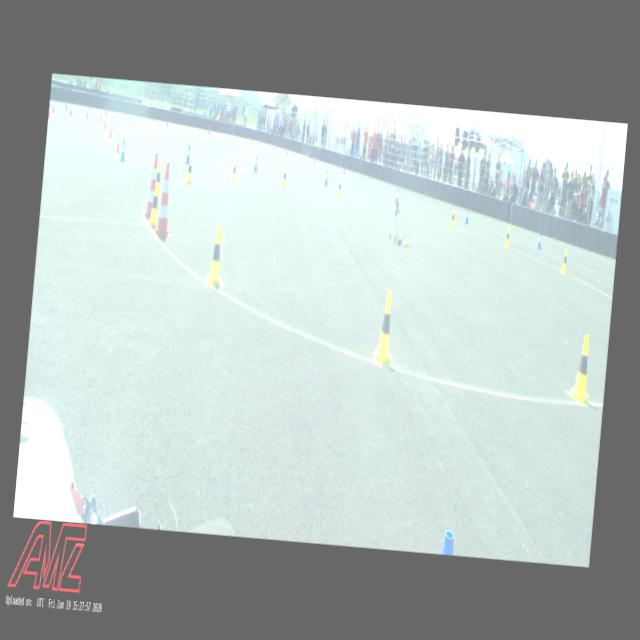blue_cone: (440, 529, 454, 555), (119, 137, 127, 161), (536, 230, 542, 250), (185, 144, 191, 164), (464, 206, 469, 224), (253, 155, 258, 172), (324, 170, 328, 186), (396, 188, 398, 200)
large_orange_cone: (155, 161, 174, 236), (144, 152, 158, 216)
orange_cone: (115, 131, 122, 152), (108, 120, 113, 138), (51, 99, 56, 112), (68, 102, 72, 116), (104, 114, 108, 128), (85, 107, 89, 119), (48, 104, 51, 118), (100, 110, 102, 122)
unknown_cone: (368, 168, 371, 180), (343, 164, 345, 175), (286, 146, 288, 156), (65, 101, 67, 110), (104, 105, 106, 114), (166, 119, 168, 128), (130, 114, 132, 122), (154, 114, 156, 122), (250, 138, 252, 146), (260, 137, 262, 145), (314, 156, 316, 164), (339, 160, 341, 168), (106, 108, 108, 114), (308, 152, 310, 158), (209, 128, 210, 135), (208, 126, 208, 133)
yellow_cone: (373, 290, 396, 364), (570, 333, 594, 402), (207, 224, 226, 286), (148, 182, 160, 228), (154, 161, 162, 197), (560, 248, 568, 273), (186, 156, 193, 184), (231, 158, 238, 182), (504, 226, 510, 248), (282, 166, 288, 187), (450, 208, 456, 228), (336, 178, 342, 196), (393, 193, 398, 210)
